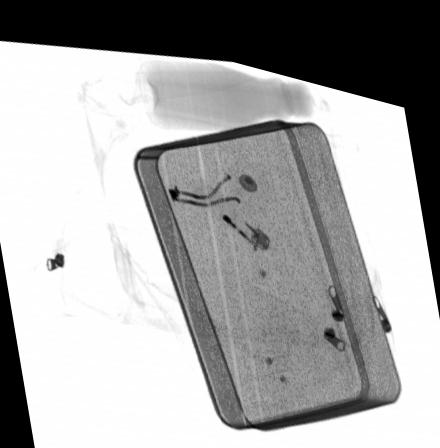Lighter: (186, 165, 271, 242)
